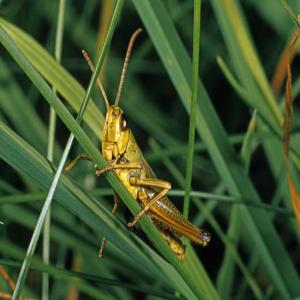locust: (83, 53, 199, 248)
